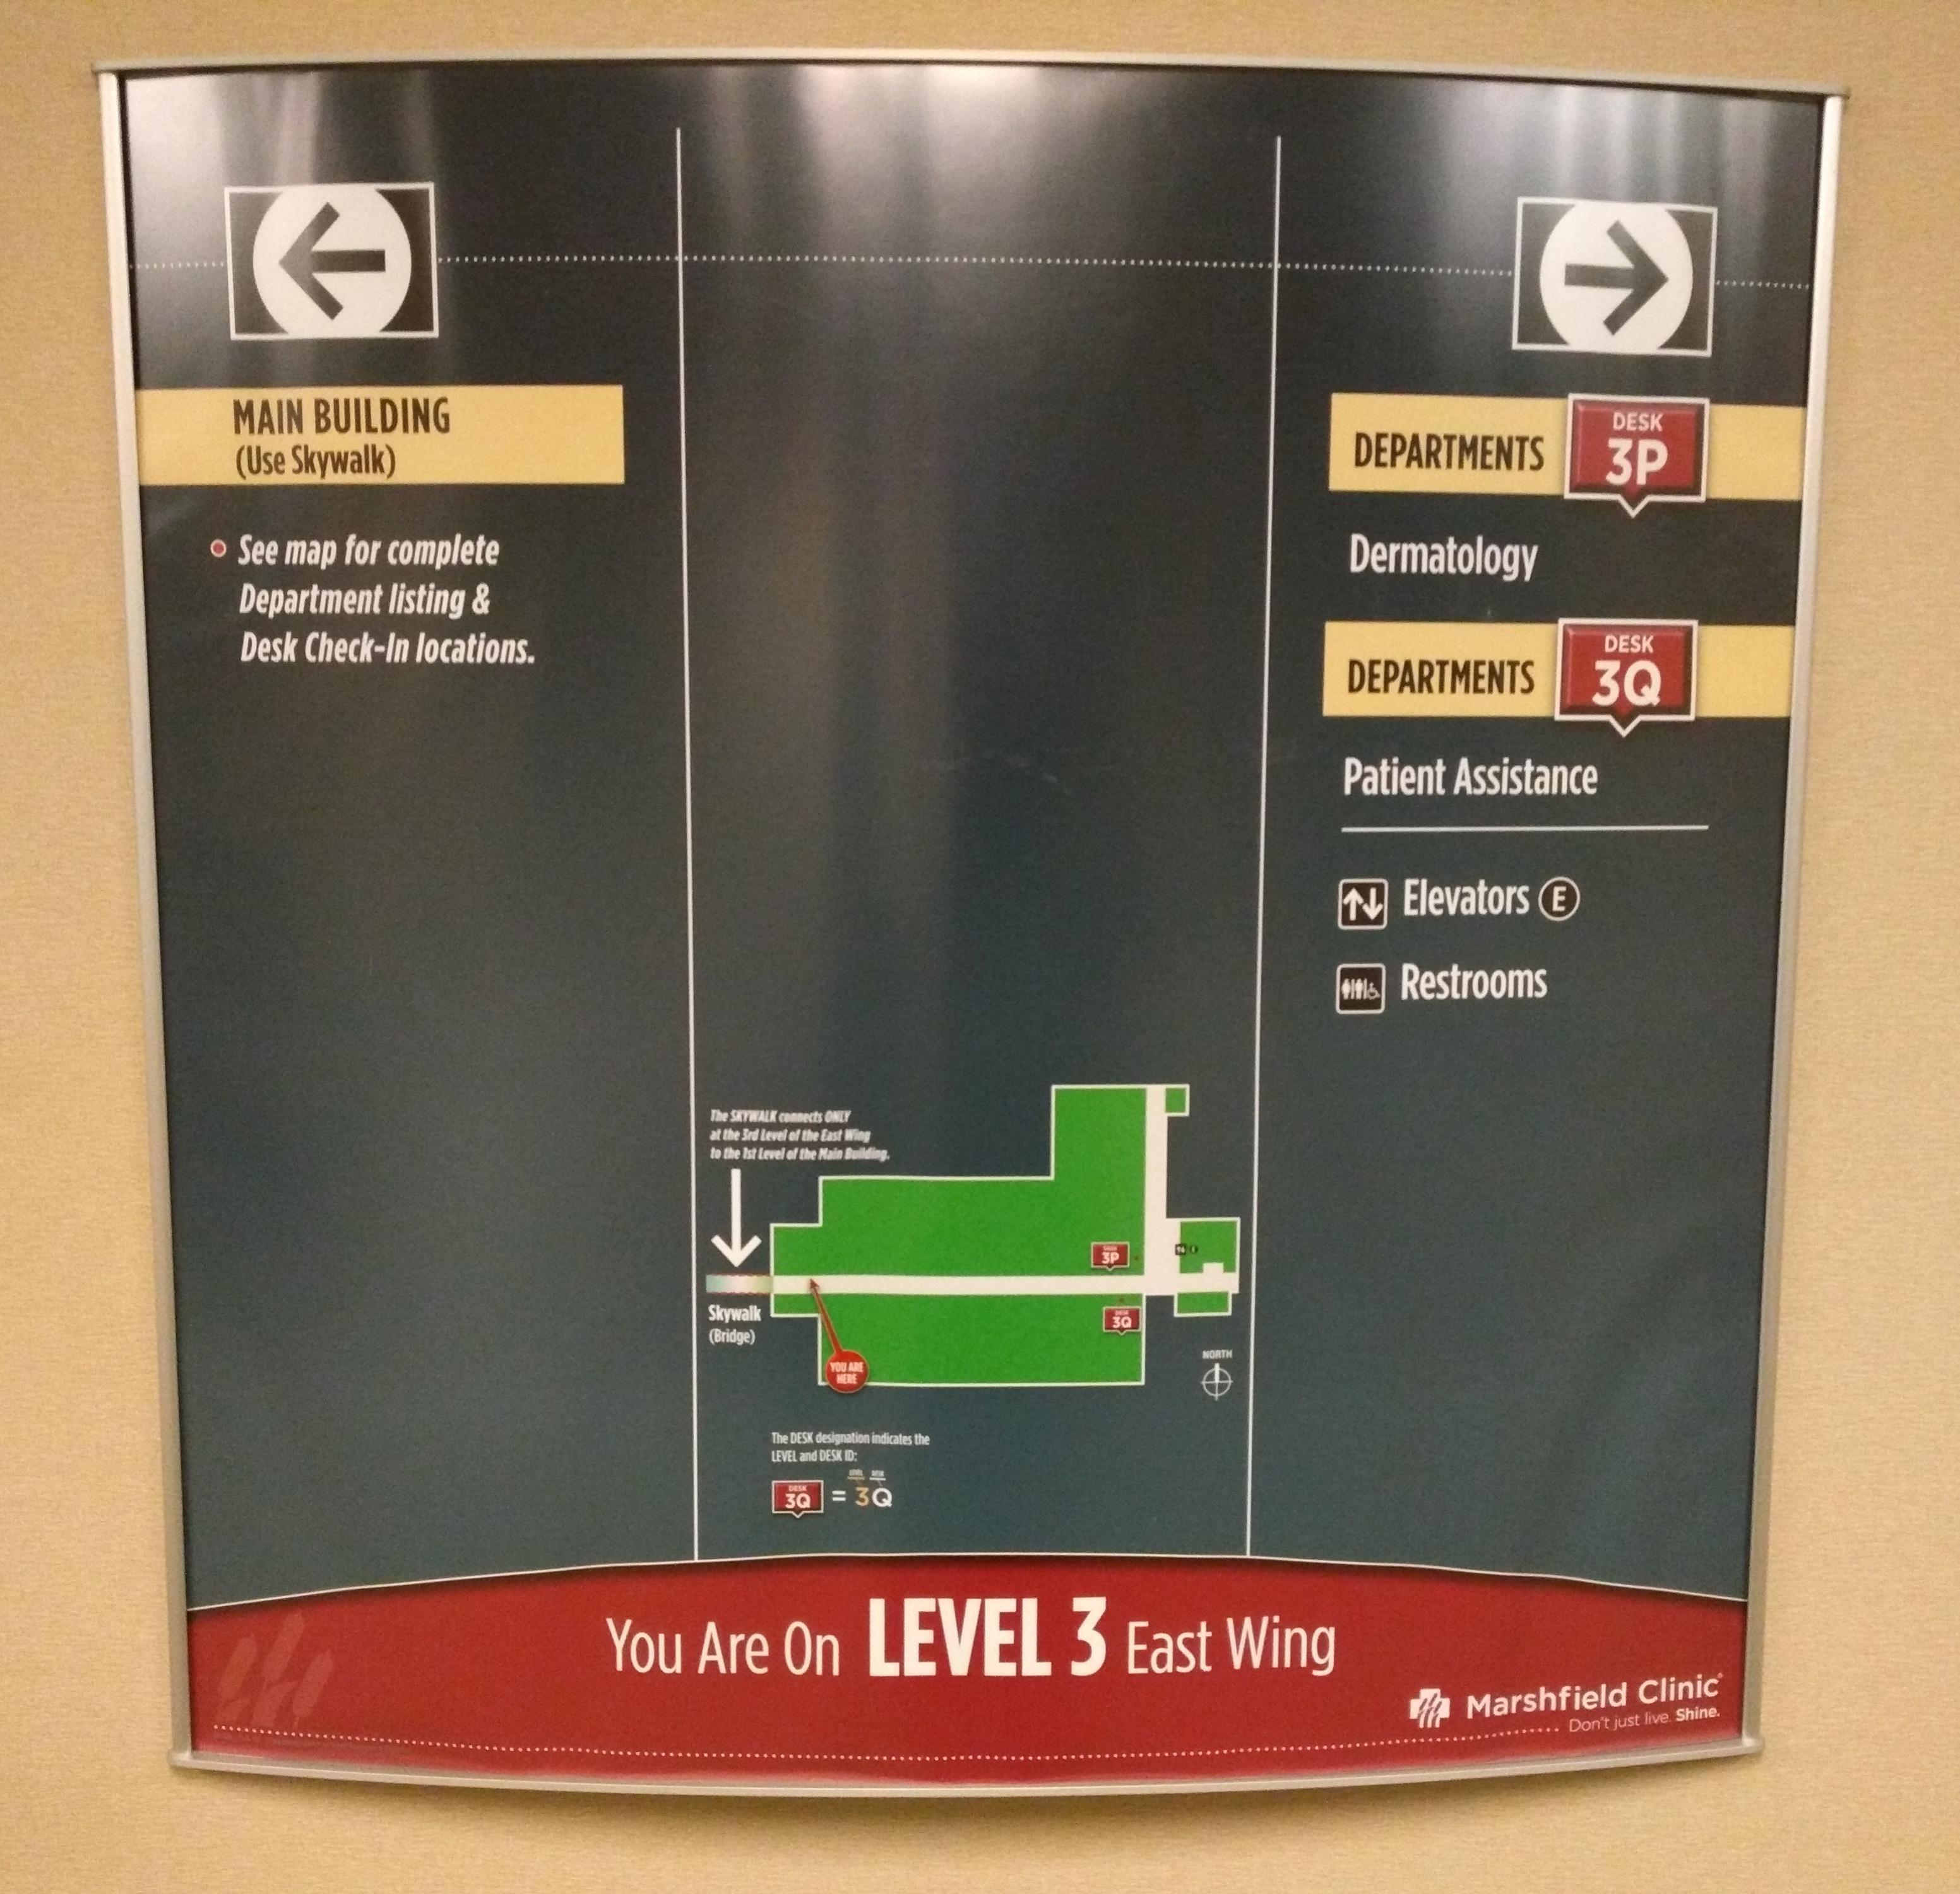sign: (94, 44, 1857, 1801)
